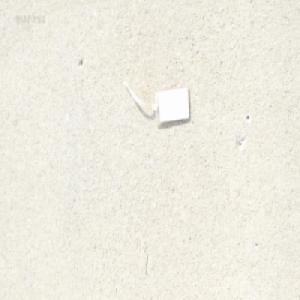LuggageTag: (121, 68, 191, 126)
